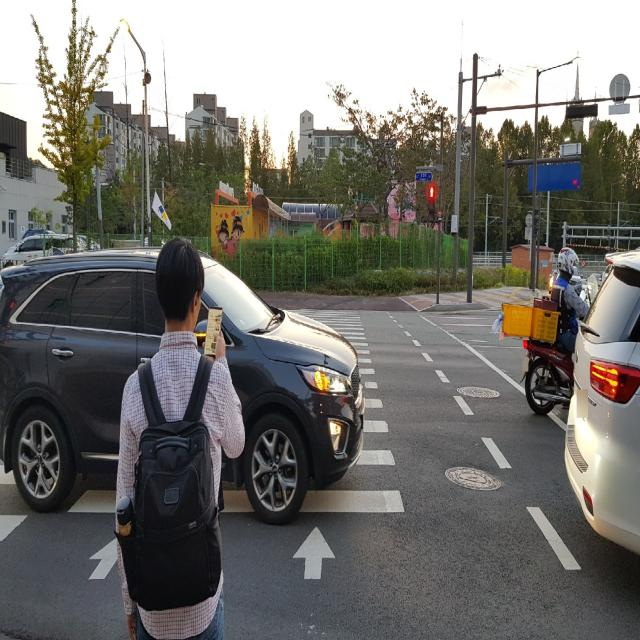빨간불: (429, 186, 434, 223)
횡단보도: (0, 308, 406, 582)
